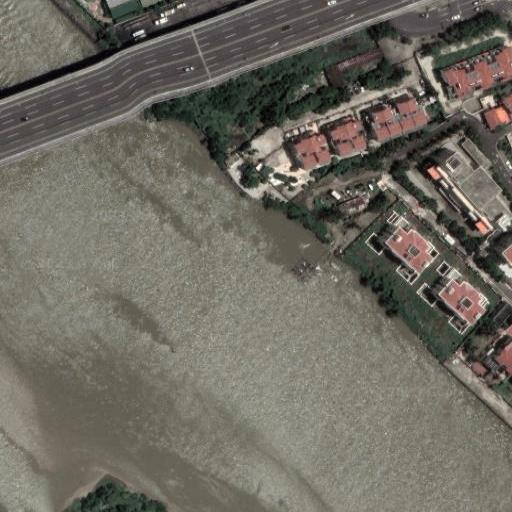building: (457, 166, 512, 235), (444, 45, 512, 96), (219, 149, 269, 201), (325, 47, 388, 88), (386, 227, 439, 274), (438, 278, 486, 326), (372, 98, 426, 139), (411, 48, 448, 105), (294, 133, 335, 172), (330, 121, 368, 159), (440, 151, 475, 185), (487, 333, 512, 373), (462, 138, 492, 170), (484, 105, 512, 131), (337, 196, 366, 217), (474, 85, 498, 105), (493, 303, 512, 325), (115, 10, 137, 23), (502, 243, 512, 263), (140, 0, 160, 8), (504, 95, 512, 111)
